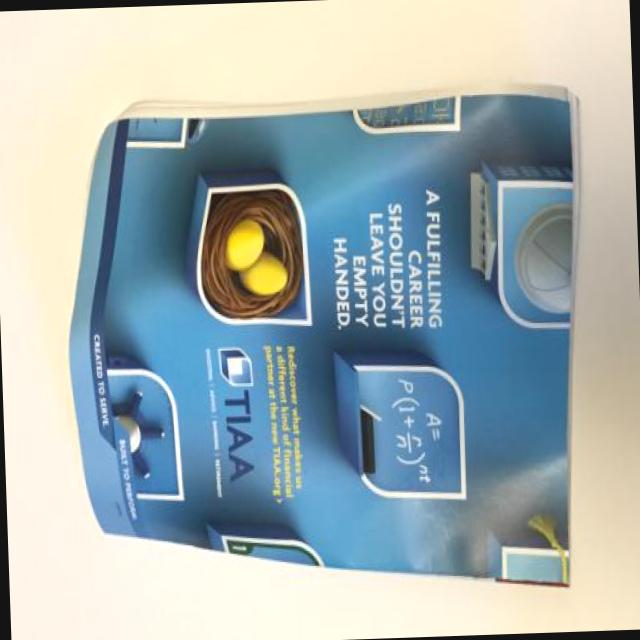paper: (80, 77, 590, 612)
